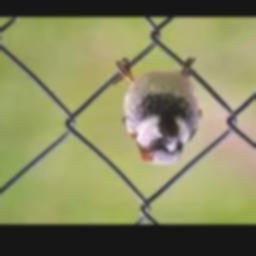Sparrow: (122, 69, 201, 165)
